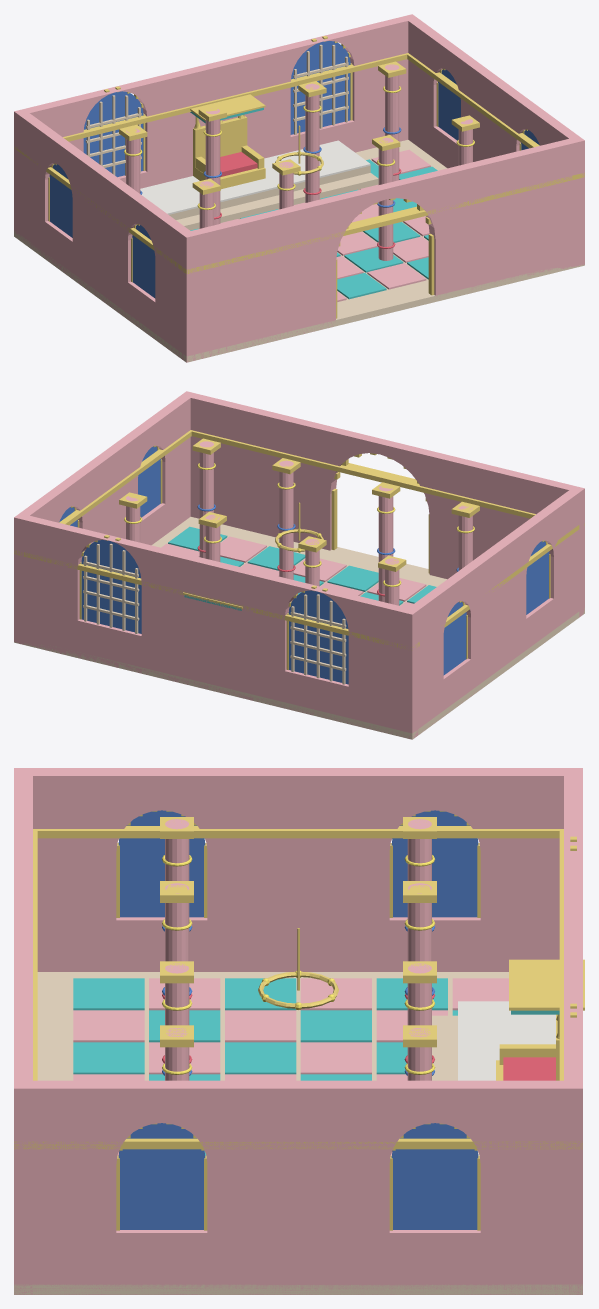
File: room_darbar_hall.glb
The picture shows the model from 3 angles, top to bottom: view 1: azimuth 30°, elevation 25°; view 2: azimuth 150°, elevation 25°; view 3: azimuth 270°, elevation 25°; orthographic projection. The views are drawn at different scales.
Visible parts, largest first — view 1: Room_DarbarHall; view 2: Room_DarbarHall; view 3: Room_DarbarHall.
Boxes of the visible parts, x1,y1,x2,y2 form: Room_DarbarHall: [14, 14, 584, 362]; Room_DarbarHall: [14, 391, 584, 739]; Room_DarbarHall: [14, 768, 584, 1294].
Size of the model in its own units: 20 by 6.07 by 15.05.
